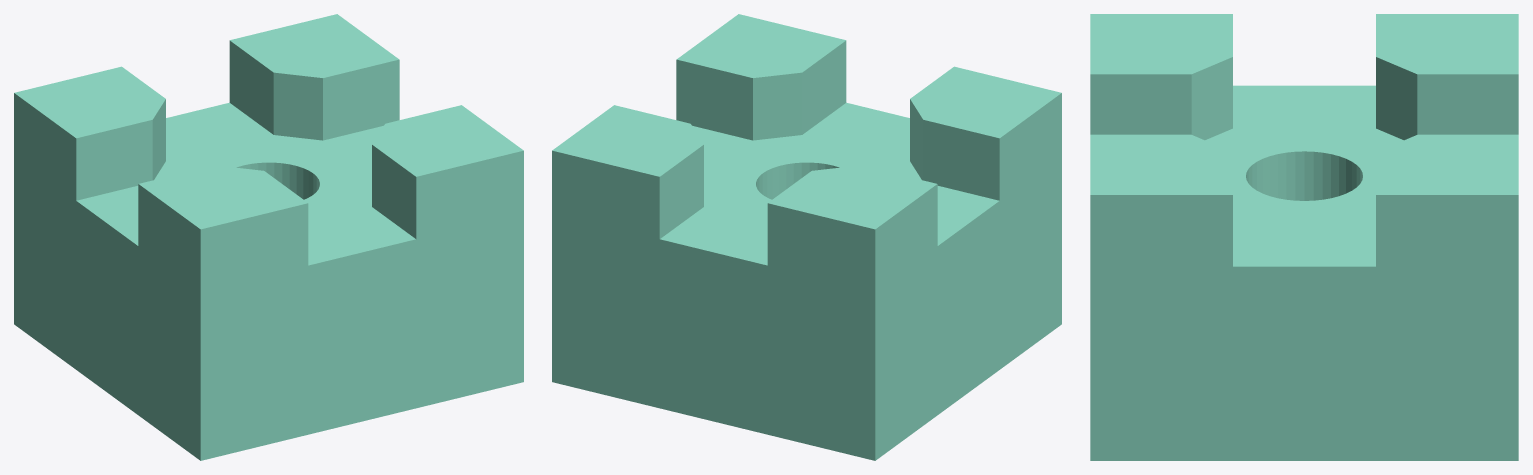
Rendered from Hatch-End.fbx.
3 views of the same model, side by side, from view 1: azimuth 30°, elevation 25°; view 2: azimuth 150°, elevation 25°; view 3: azimuth 270°, elevation 25° (orthographic). The views are drawn at different scales.
Visible parts, largest first — view 1: Cube.006; view 2: Cube.006; view 3: Cube.006.
Part boxes in pixels (x1,y1,x2,y2): Cube.006: (14,14,523,460); Cube.006: (552,14,1061,460); Cube.006: (1090,14,1518,460).
Bounding box in the file's own units: 400 × 274 × 400.
